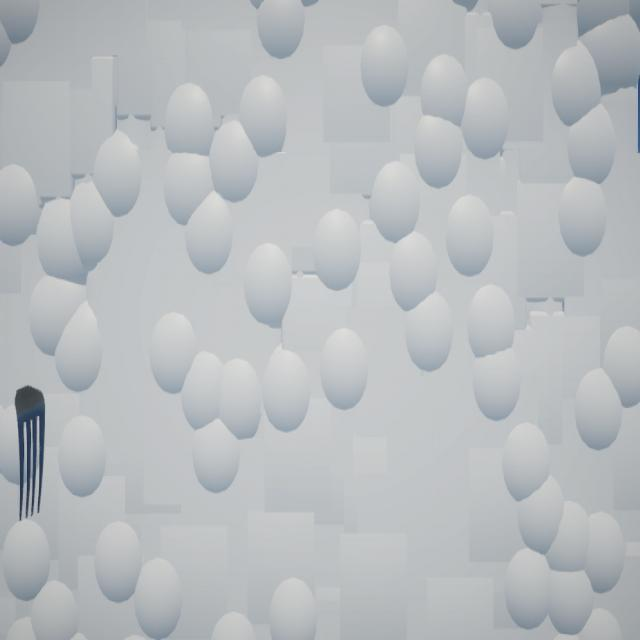top_folk: (16, 386, 47, 522)
